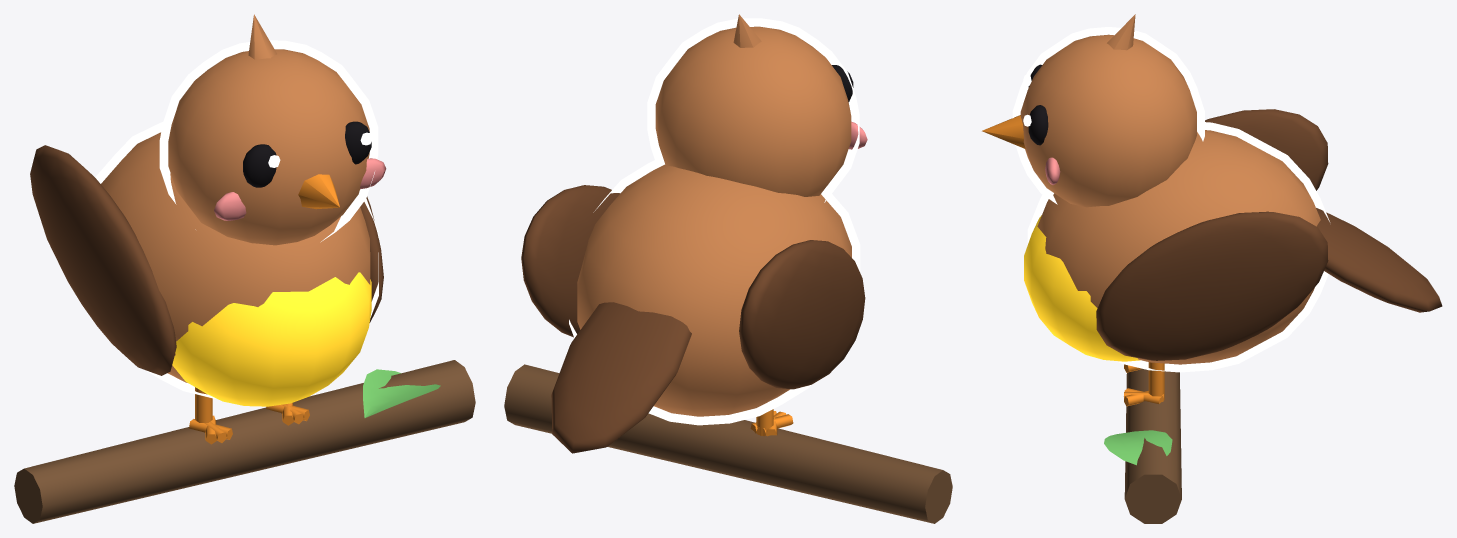
File: pickup_bird.d551aab8.glb
3 views of the same model, side by side, from view 1: azimuth 30°, elevation 25°; view 2: azimuth 150°, elevation 25°; view 3: azimuth 270°, elevation 25° (orthographic). The views are drawn at different scales.
Visible parts, largest first — view 1: pickup_bird; view 2: pickup_bird; view 3: pickup_bird.
Part boxes in pixels (x1=…): pickup_bird: x1=14, y1=14, x2=475, y2=523; pickup_bird: x1=504, y1=14, x2=952, y2=523; pickup_bird: x1=982, y1=14, x2=1442, y2=523.
Size of the model in its own units: 0.336 by 0.3459 by 0.3476.
